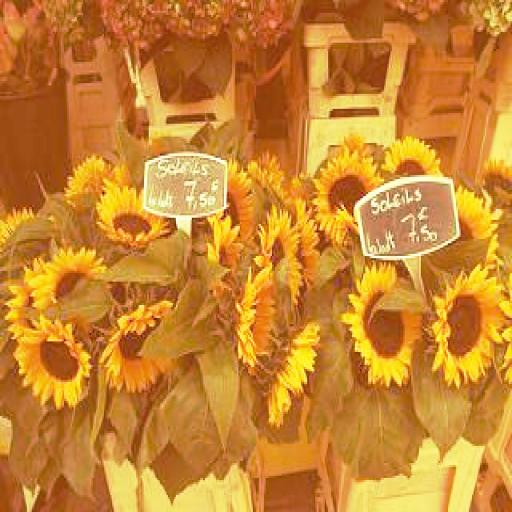sunflower: (347, 258, 421, 391), (434, 265, 506, 386), (13, 314, 91, 410), (102, 299, 176, 390), (266, 322, 320, 429), (315, 152, 379, 241), (96, 182, 168, 246), (260, 211, 306, 303), (240, 267, 275, 369), (206, 211, 237, 307)
